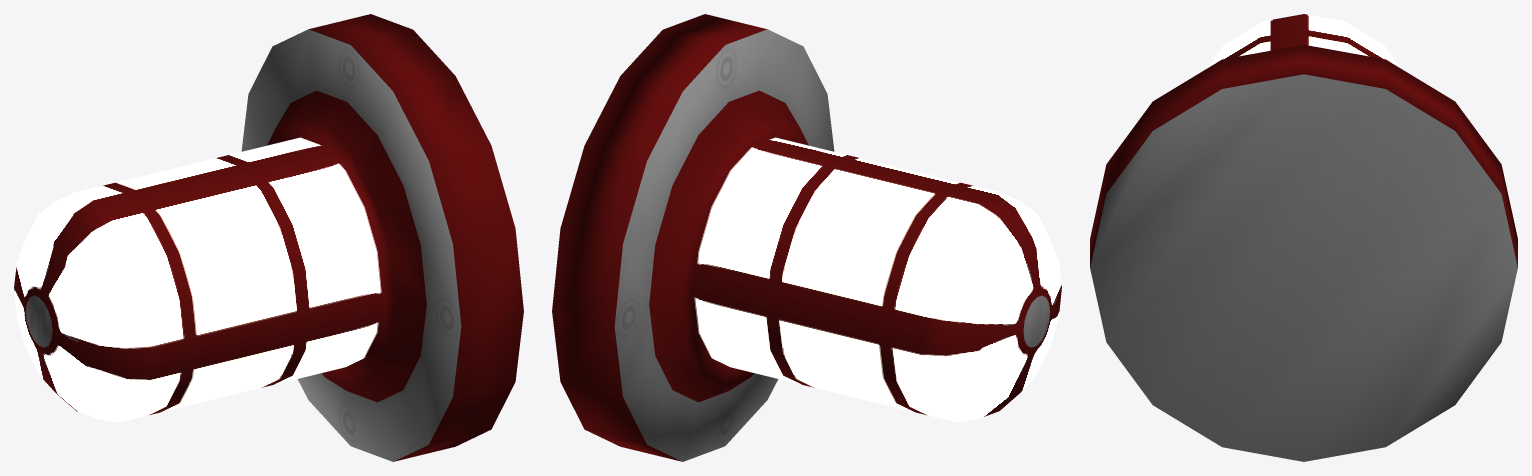
The model's file is SM_Lampp.fbx.
The picture shows the model from 3 angles, left to right: view 1: azimuth 30°, elevation 25°; view 2: azimuth 150°, elevation 25°; view 3: azimuth 270°, elevation 25°; orthographic projection. The views are drawn at different scales.
Visible parts, largest first — view 1: SM_Lampp_LOD0; view 2: SM_Lampp_LOD0; view 3: SM_Lampp_LOD0.
Part boxes in pixels (x1,y1,x2,y2): SM_Lampp_LOD0: [14, 14, 523, 461]; SM_Lampp_LOD0: [552, 14, 1061, 461]; SM_Lampp_LOD0: [1090, 14, 1517, 461].
Size of the model in its own units: 36.76 by 37.68 by 37.68.
